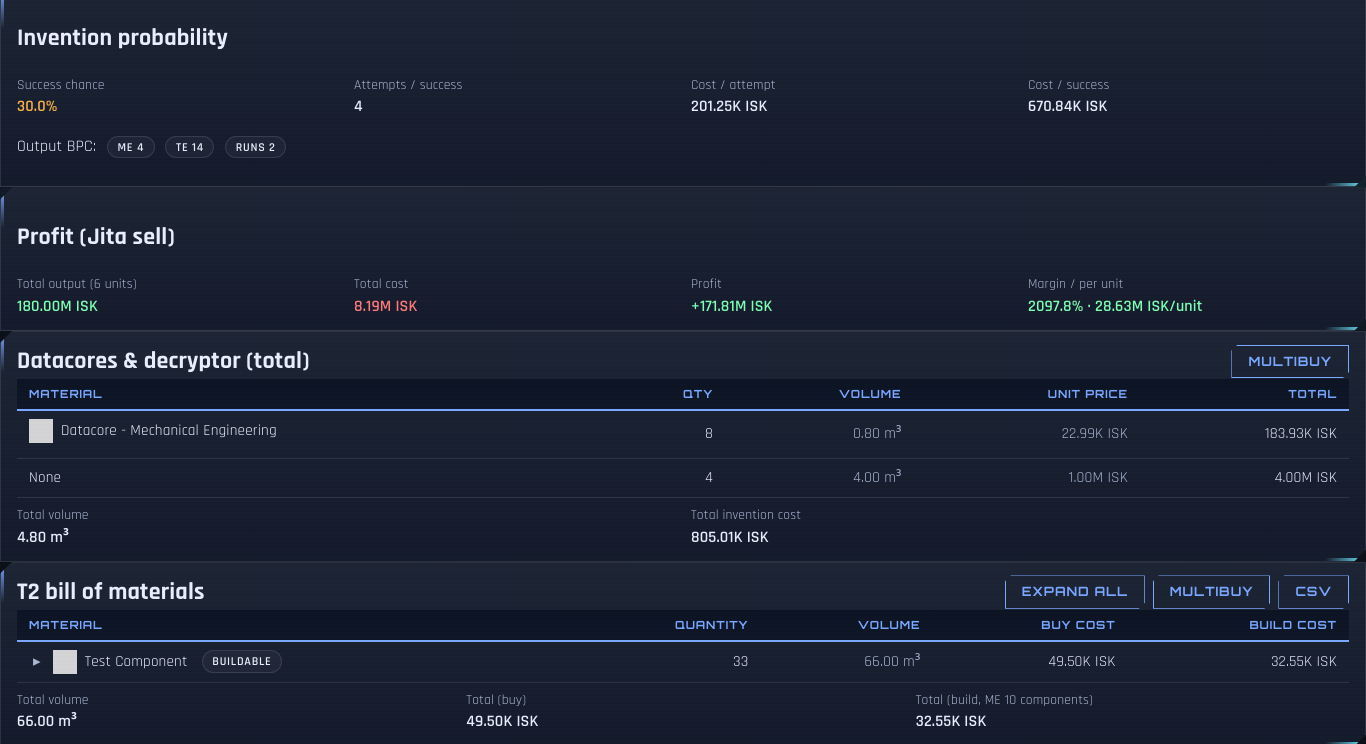
Scenario: InventionResults › expands a buildable T2 component with its material and job cost
This screenshot has width=1366, height=744.
Click the button named "Show the materials of Test Component": (37, 662) [29,650,45,672]
(page scrolled)
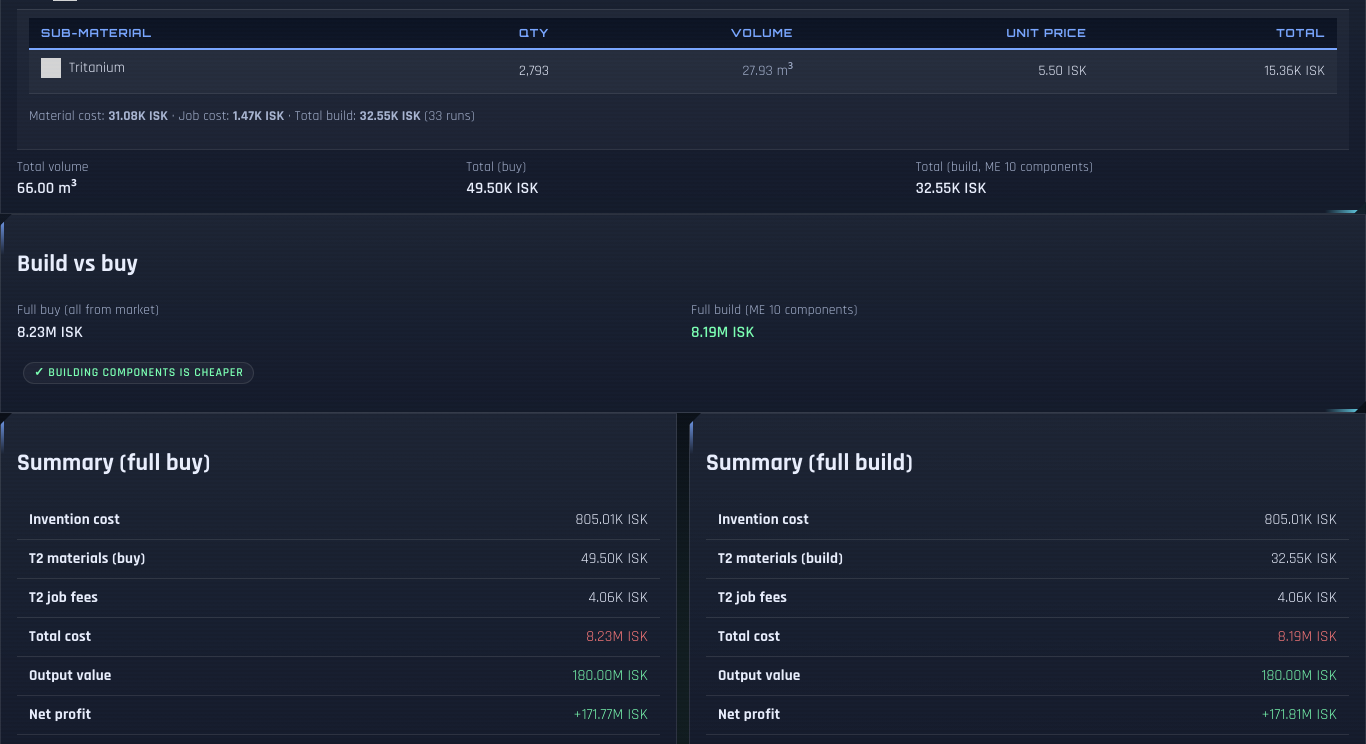
Expected: the text "✓ Building components is cheaper" is shown, [23,362,254,384]
Result: the text "Tritanium" is shown at [41,58,125,78]
Result: the text "Job cost:" is shown at [168,107,229,125]
